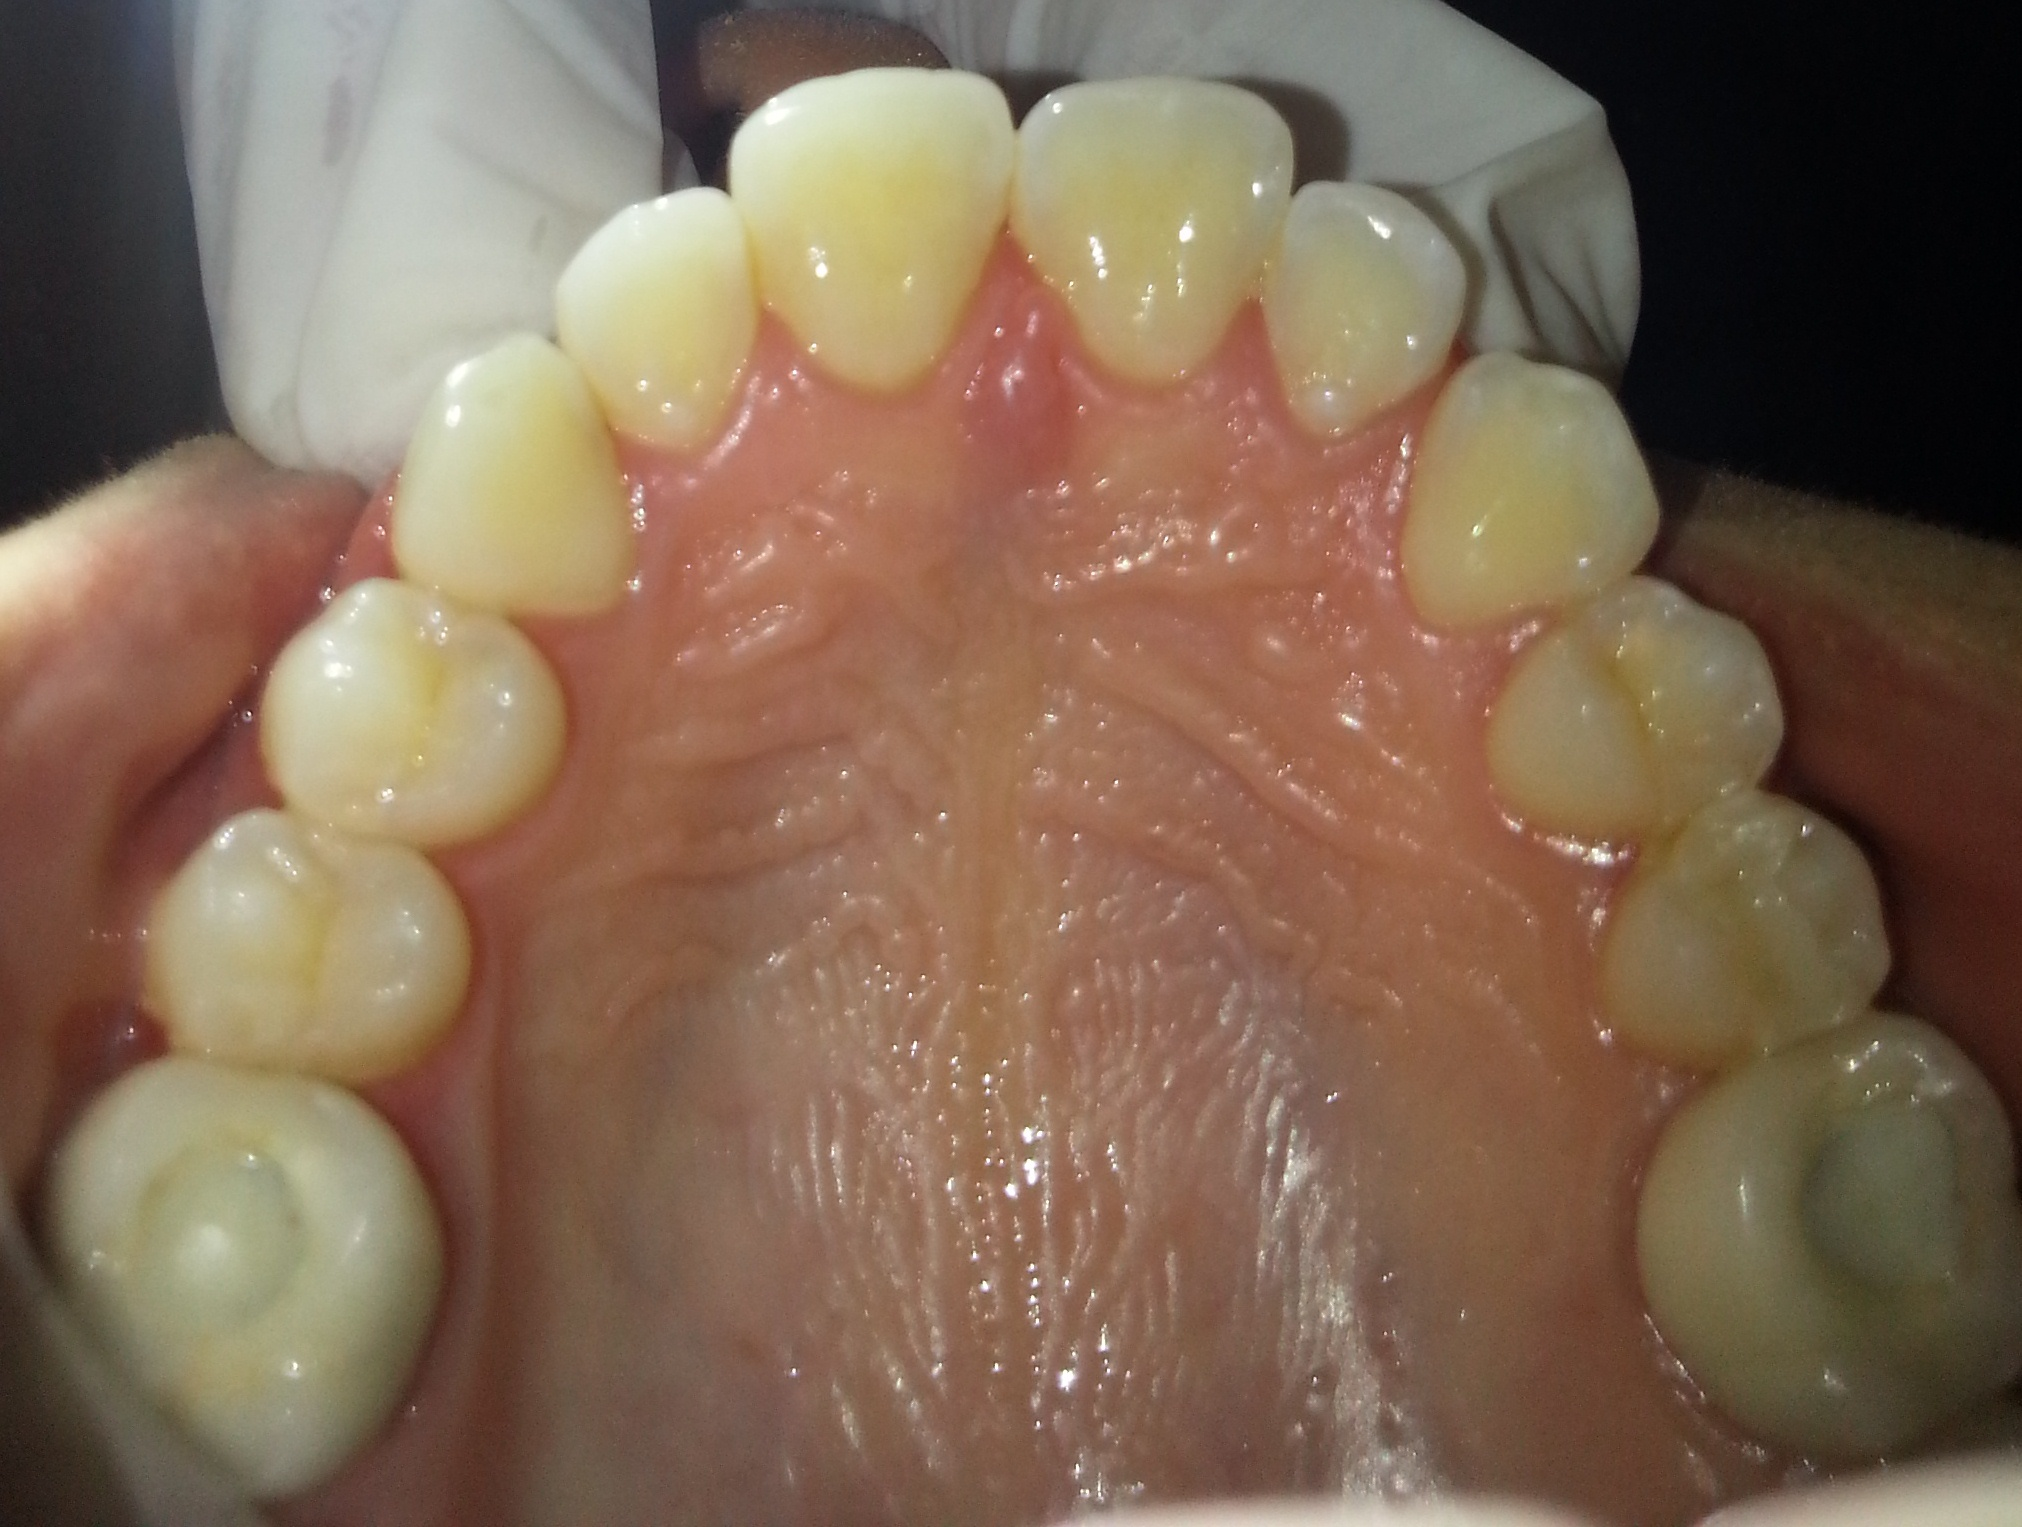1st Molar: (32, 1070, 446, 1493), (1632, 1023, 2020, 1453)
1st Premolar: (257, 576, 582, 836), (1486, 582, 1778, 831)
2nd Premolar: (140, 818, 475, 1075), (1597, 805, 1887, 1055)
Canine: (386, 321, 649, 616), (1398, 351, 1653, 624)
Central Incisor: (725, 63, 1021, 403), (1018, 75, 1292, 398)
Lateral Incisor: (552, 183, 763, 459), (1272, 183, 1459, 438)
